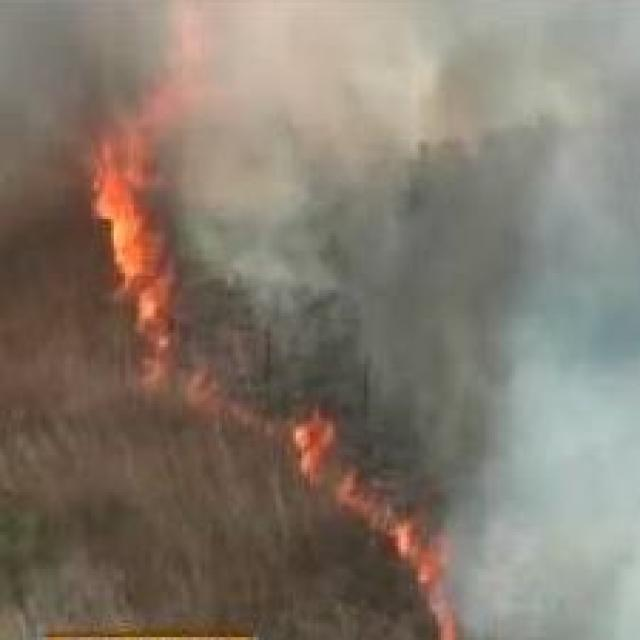Fire: (288, 419, 454, 640), (104, 148, 167, 344)
Smoke: (176, 0, 631, 634), (0, 0, 179, 175)
